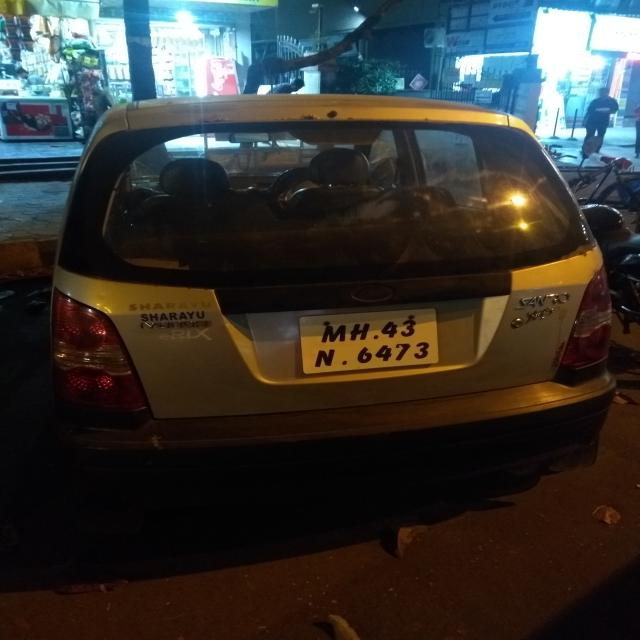Number-Plate: (302, 308, 440, 372)
